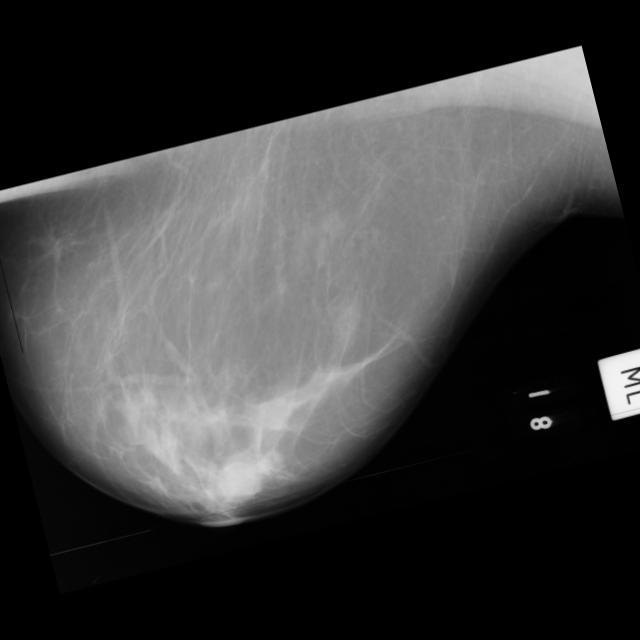SPIC: (44, 129, 640, 640)
